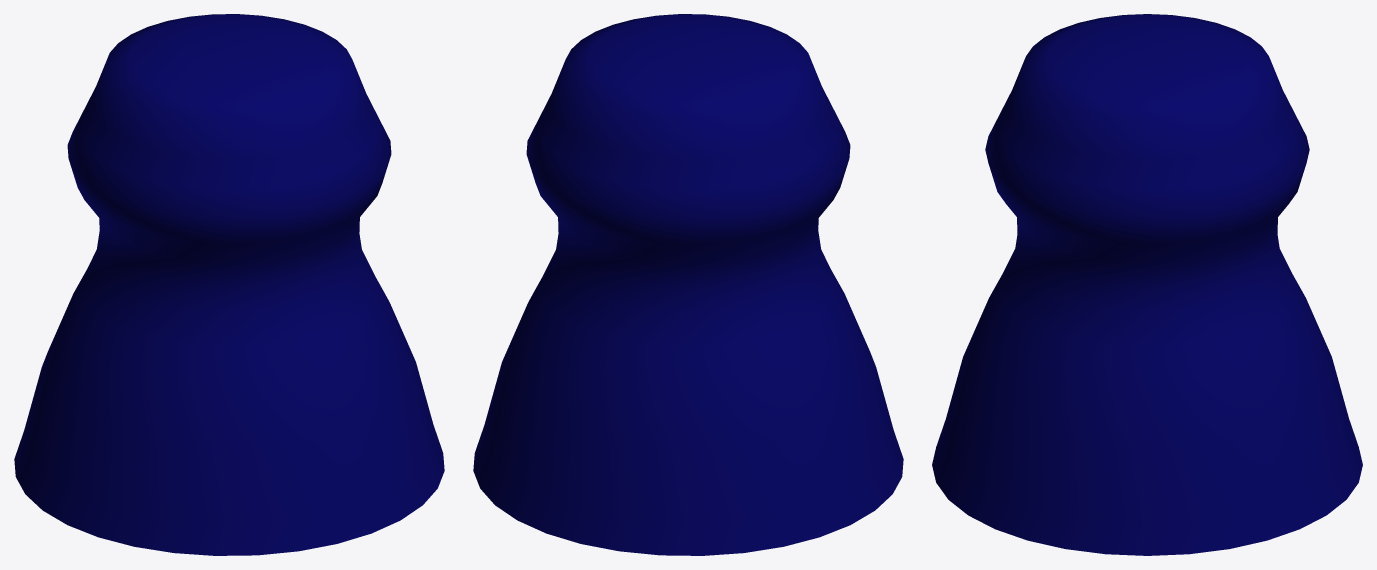
Rendered from body.gltf.
The picture shows the model from 3 angles, left to right: view 1: azimuth 30°, elevation 25°; view 2: azimuth 150°, elevation 25°; view 3: azimuth 270°, elevation 25°; orthographic projection.
Visible parts, largest first — view 1: Sphere.056; view 2: Sphere.056; view 3: Sphere.056.
Part boxes in pixels (x1,y1,x2,y2): Sphere.056: (14,14,444,555); Sphere.056: (473,14,903,555); Sphere.056: (932,14,1362,555).
Bounding box in the file's own units: 0.3694 × 0.3939 × 0.3694.
Materials: 1 (1 with a texture image).
